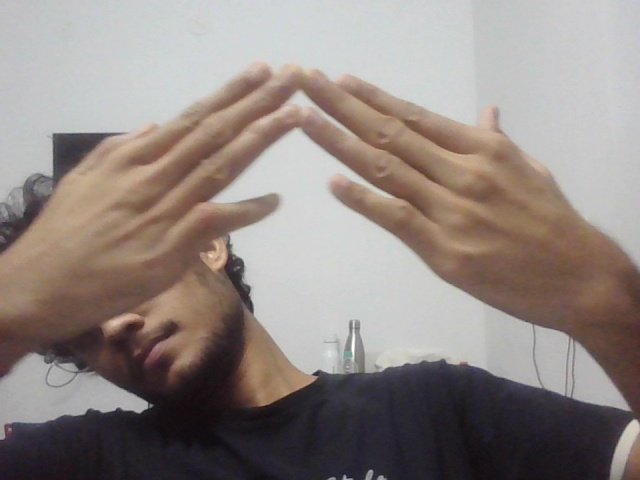Thanks: (12, 26, 600, 381)
